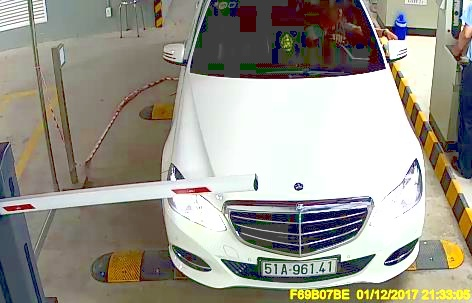plate: (256, 254, 339, 278)
